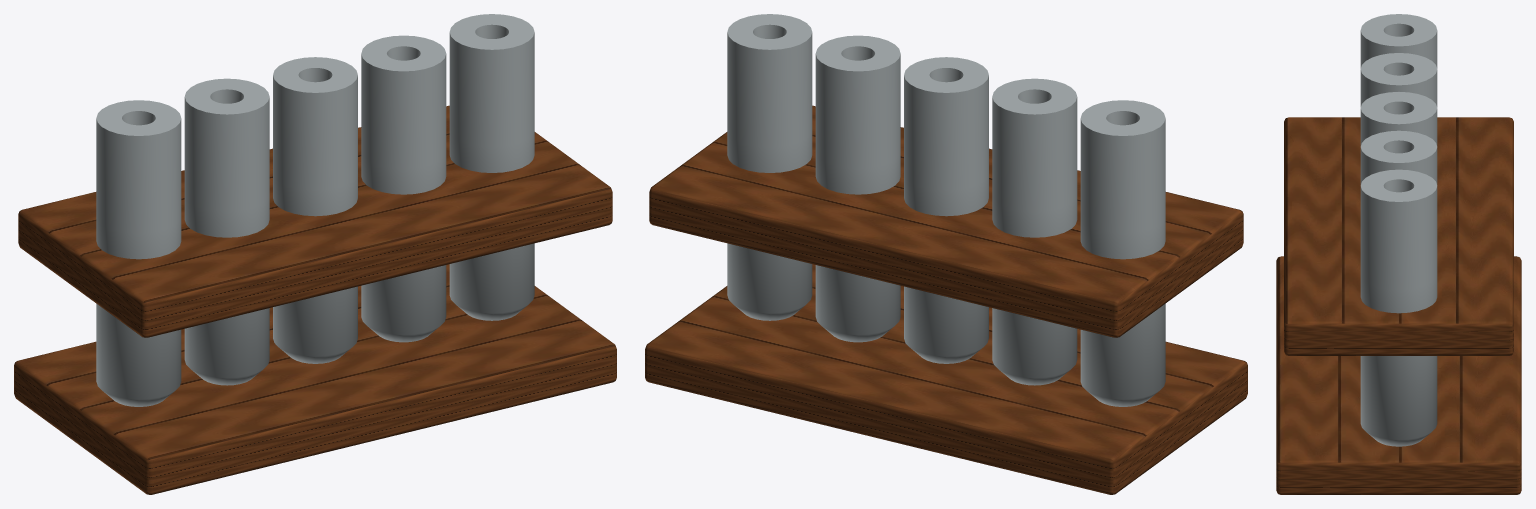
3 renders of one model, left to right at view 1: azimuth 30°, elevation 25°; view 2: azimuth 150°, elevation 25°; view 3: azimuth 270°, elevation 25°, orthographic. The views are drawn at different scales.
Parts seen in each view (by area): view 1: token-tube-rack; view 2: token-tube-rack; view 3: token-tube-rack.
Part boxes in pixels (x1,y1,x2,y2): token-tube-rack: [14, 14, 616, 494]; token-tube-rack: [645, 14, 1247, 494]; token-tube-rack: [1276, 14, 1521, 494].
Bounding box in the file's own units: 0.32 × 0.205 × 0.16.
Materials: 2 (1 with a texture image).
